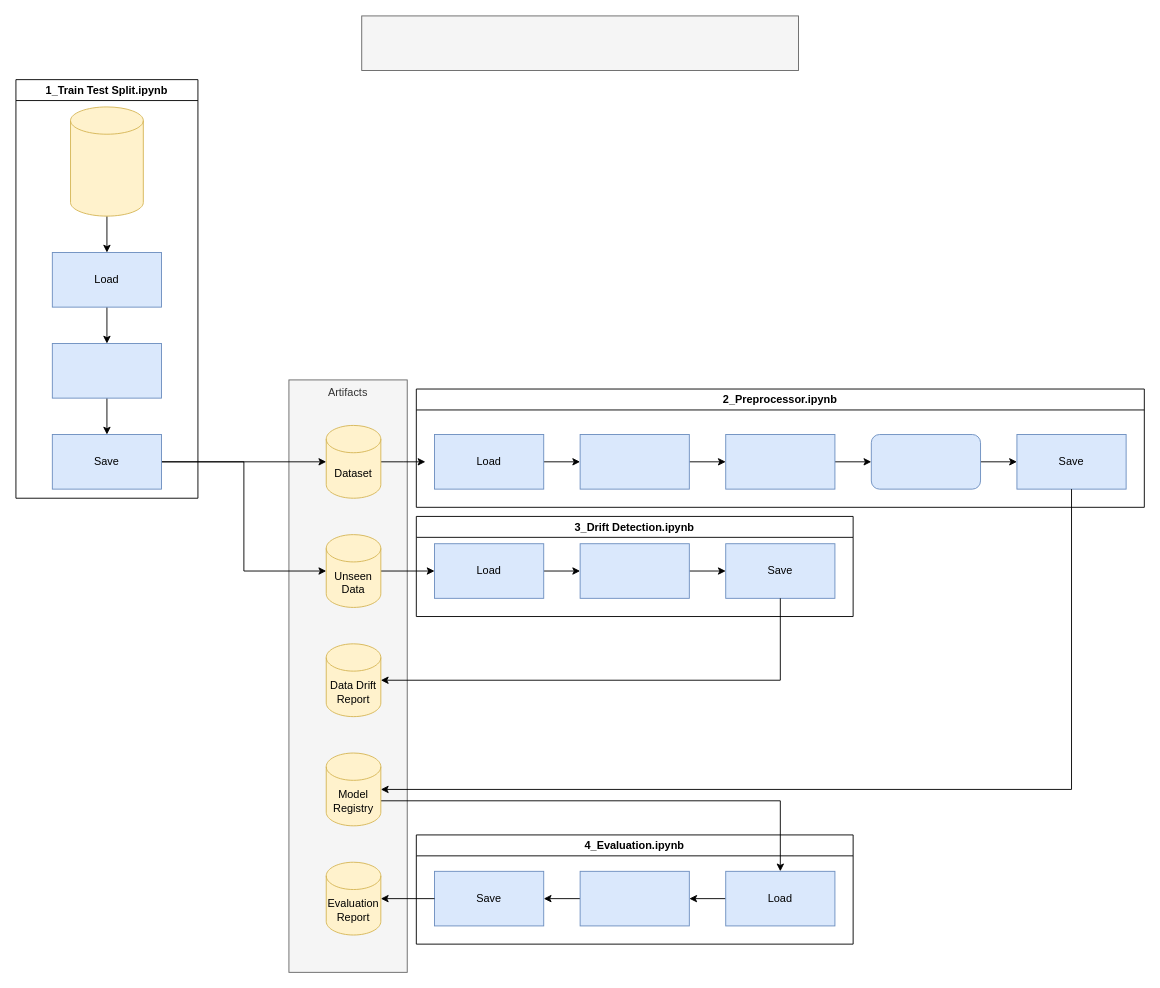
Image size: 1160x988. Some labels were removed from this diagram. The shapes that lost their labels are listed below. From the top down, each one's centre as x and y in pixels, then its label:
pixel 580 43: Metaflow Demo
pixel 106 161: Iris Dataset
pixel 106 370: Shuffle
pixel 634 461: Preprocess
pixel 780 461: Training
pixel 925 461: Classifier
pixel 634 570: Evidently Report
pixel 634 898: Evaluate
